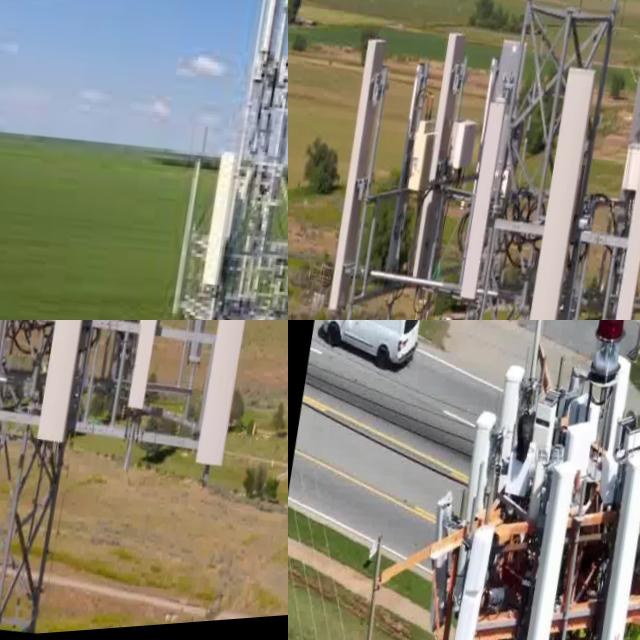GSM Antenna: (398, 25, 484, 307), (515, 61, 608, 320), (313, 34, 396, 320), (183, 320, 278, 482), (448, 96, 515, 317), (23, 320, 121, 462), (516, 455, 586, 640), (588, 453, 640, 640), (190, 151, 241, 309), (413, 488, 468, 631), (603, 120, 640, 320), (117, 320, 182, 430), (445, 520, 501, 640), (454, 411, 501, 524), (488, 362, 532, 462), (178, 320, 232, 388), (246, 0, 287, 61), (623, 49, 640, 165)
